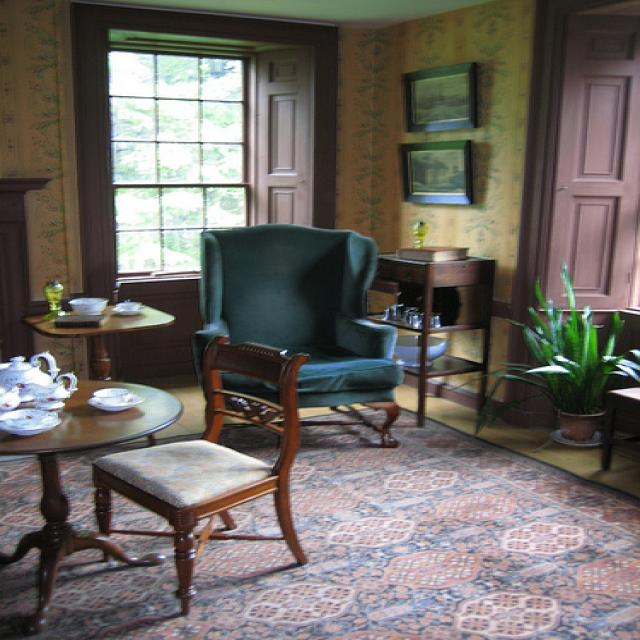chair: (90, 333, 310, 614)
